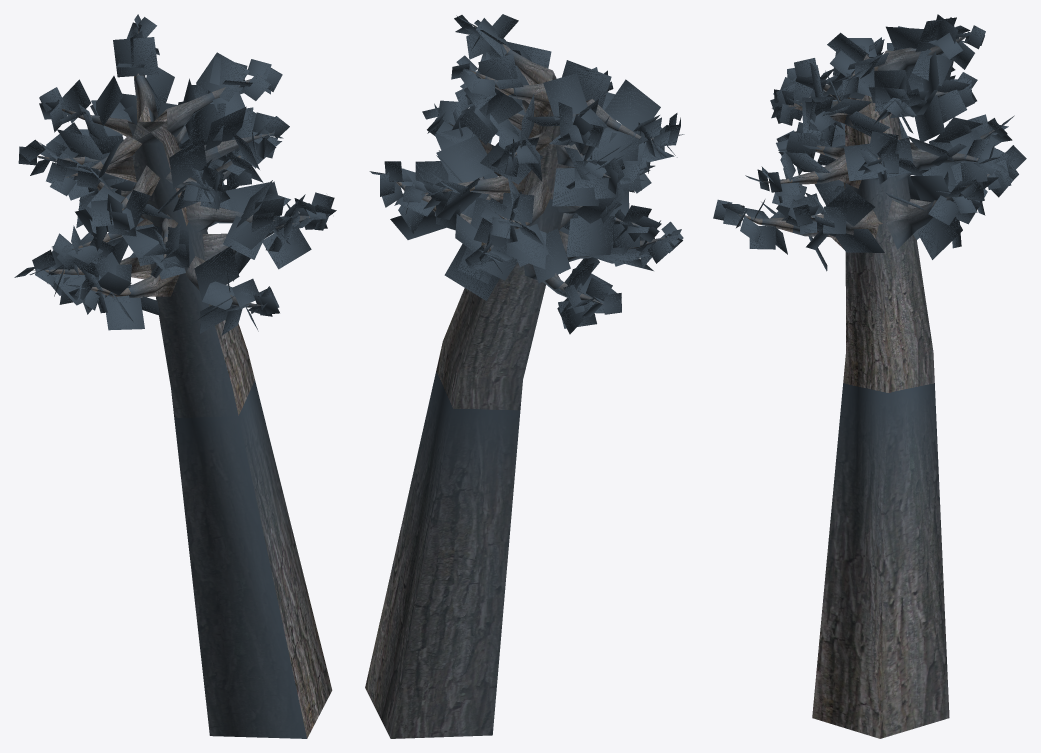
The model's file is atsV2 Demoscene.unity_1.obj.
3 renders of one model, left to right at view 1: azimuth 30°, elevation 25°; view 2: azimuth 150°, elevation 25°; view 3: azimuth 270°, elevation 25°, orthographic. The views are drawn at different scales.
Visible parts, largest first — view 1: Sequoia; view 2: Sequoia; view 3: Sequoia.
Boxes of the visible parts, x1,y1,x2,y2 form: Sequoia: [14, 14, 336, 738]; Sequoia: [365, 14, 684, 738]; Sequoia: [713, 14, 1026, 738].
Size of the model in its own units: 13.34 by 30.65 by 13.19.
2 materials, 2 textured.
